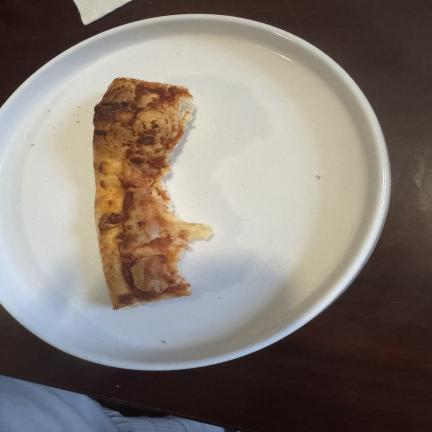pizza: (94, 78, 211, 309)
